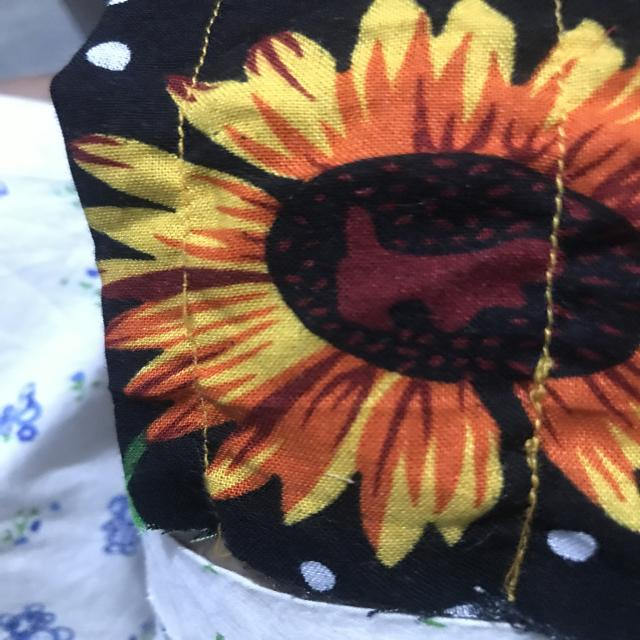skip: (168, 273, 212, 354)
